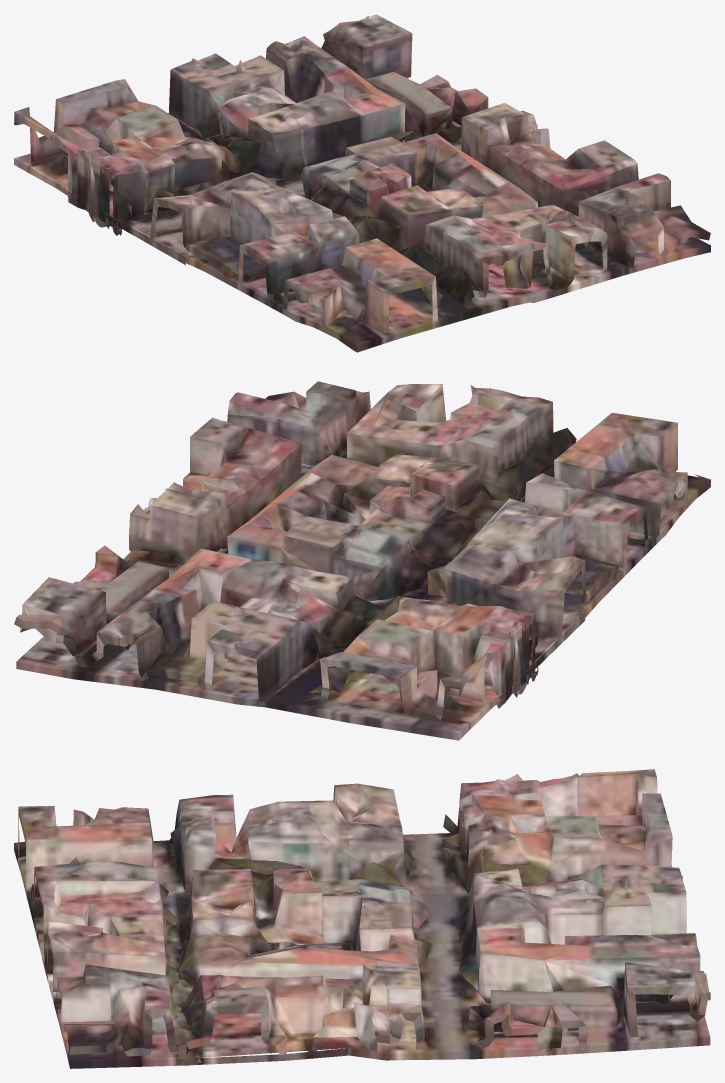
3 renders of one model, top to bottom at view 1: azimuth 30°, elevation 25°; view 2: azimuth 150°, elevation 25°; view 3: azimuth 270°, elevation 25°, orthographic. The views are drawn at different scales.
Parts seen in each view (by area): view 1: Mesh_0; view 2: Mesh_0; view 3: Mesh_0.
Part boxes in pixels (box(x1,y1,x2,y2)): Mesh_0: box(14, 14, 710, 352); Mesh_0: box(14, 381, 710, 740); Mesh_0: box(14, 769, 710, 1068).
Size of the model in its own units: 266 by 45.58 by 330.
1 material, 1 textured.
